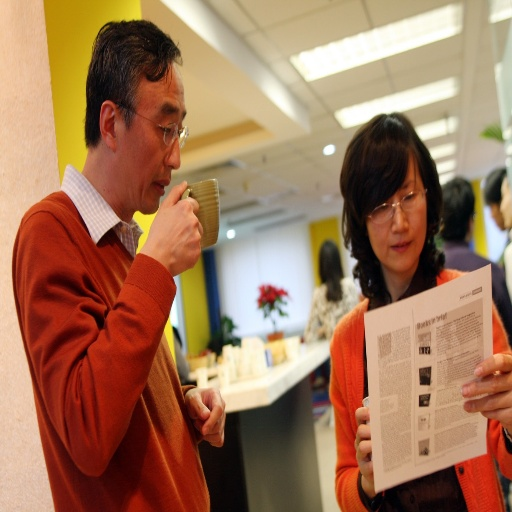hand: (129, 178, 213, 276), (460, 351, 511, 431), (184, 385, 226, 448), (353, 405, 375, 484)
